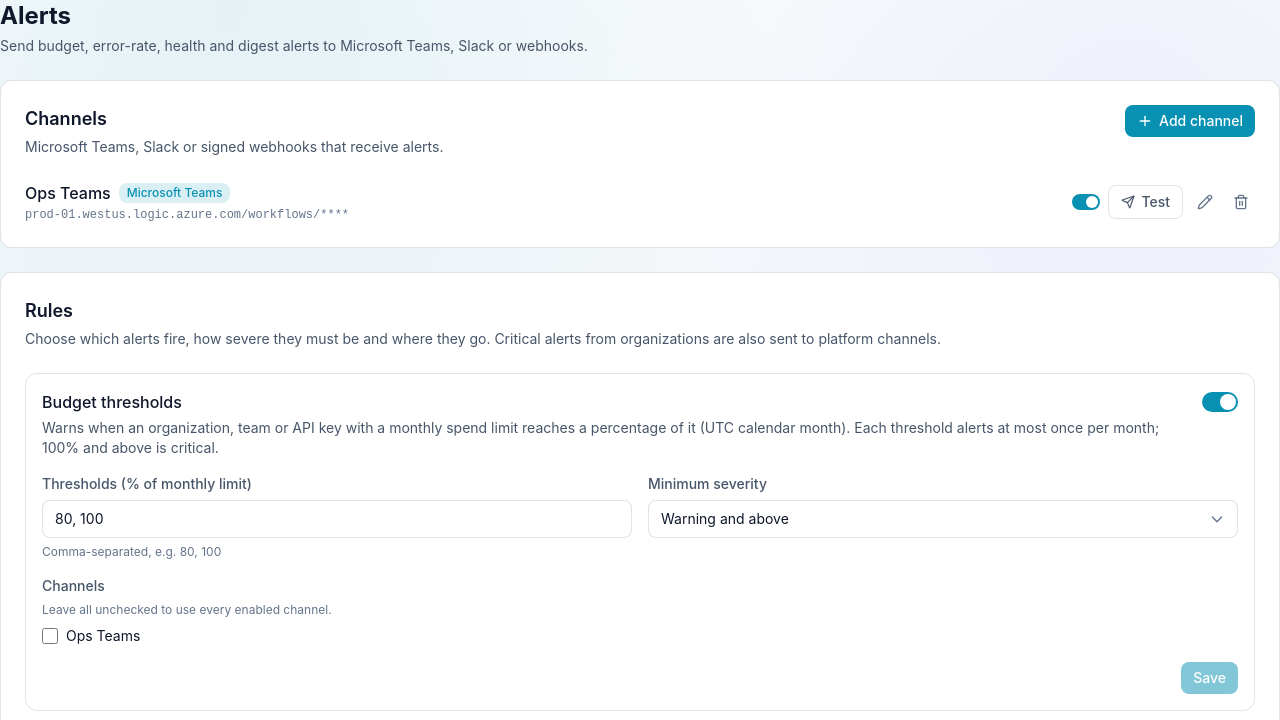
Test: AlertsPage › shows the test result in a toast
Click the button with aria-label "Send test alert to Ops Teams" at (1146, 202), box [1108, 185, 1183, 219]
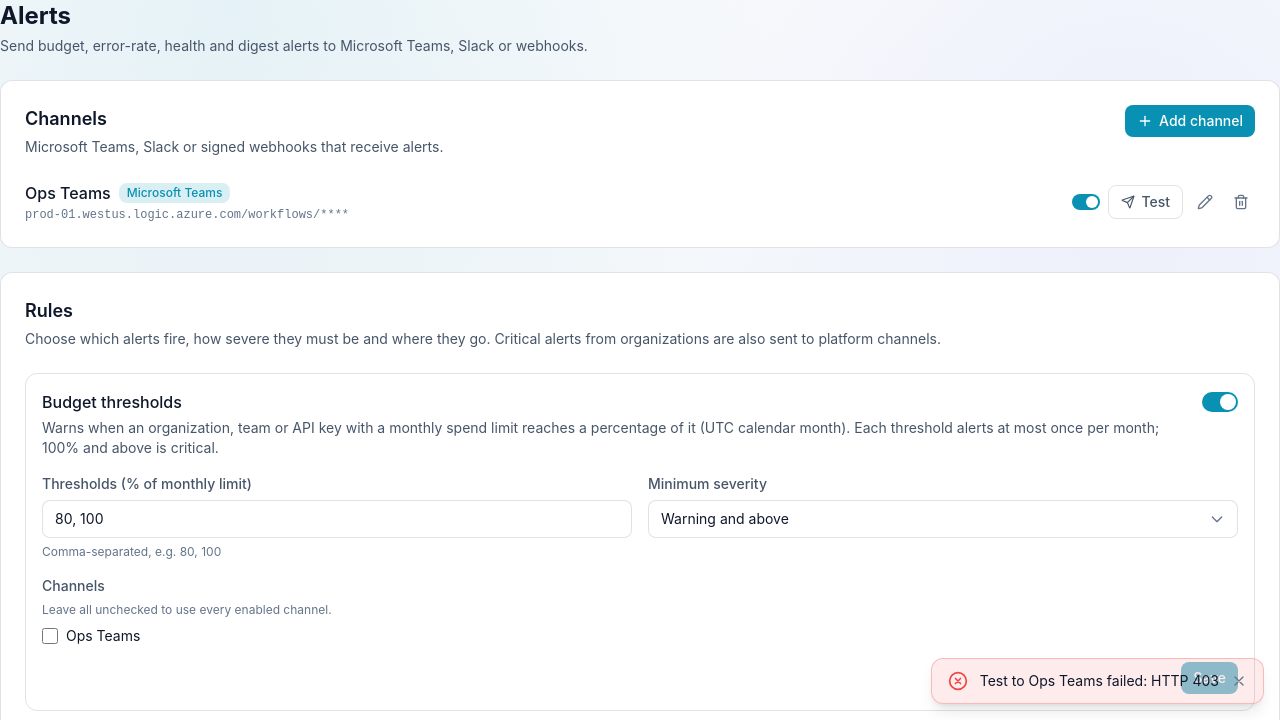
Now the text "Test to Ops Teams failed: HTTP 403" is shown, box [980, 671, 1219, 691]
